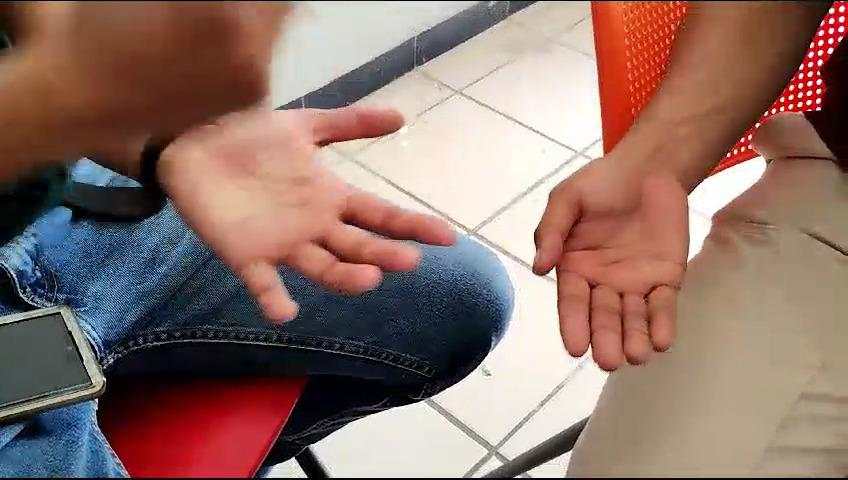Paper: (195, 111, 465, 322), (549, 152, 697, 365)
